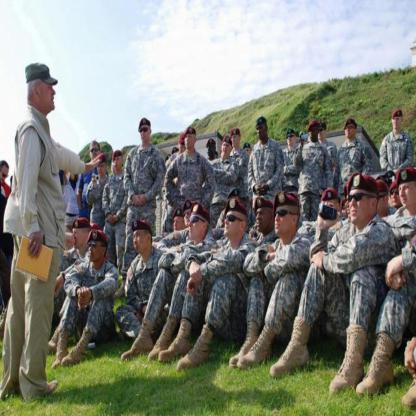face: (350, 190, 374, 223), (276, 205, 294, 235), (39, 80, 56, 111), (399, 184, 416, 207), (226, 211, 242, 235), (134, 231, 149, 253), (190, 215, 204, 238), (257, 209, 271, 231), (323, 202, 336, 225), (90, 240, 103, 261), (376, 191, 386, 213), (74, 229, 85, 248), (346, 195, 355, 218), (141, 126, 151, 143), (392, 189, 401, 207), (186, 133, 196, 148), (174, 217, 183, 233), (258, 125, 267, 140), (185, 210, 192, 227), (91, 148, 100, 161), (114, 157, 122, 171), (393, 118, 402, 130), (223, 143, 231, 156), (98, 163, 106, 176), (207, 146, 216, 157), (346, 126, 354, 138), (318, 127, 325, 139), (232, 135, 239, 147), (180, 144, 187, 156), (288, 135, 296, 145), (310, 129, 317, 140), (343, 205, 349, 217), (245, 148, 250, 157)
